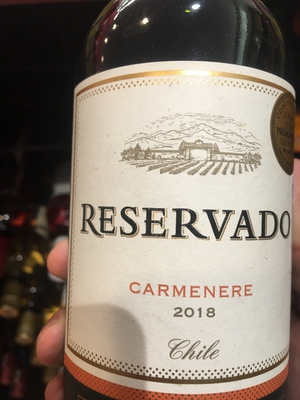reservado carmenere: (65, 7, 295, 400)
